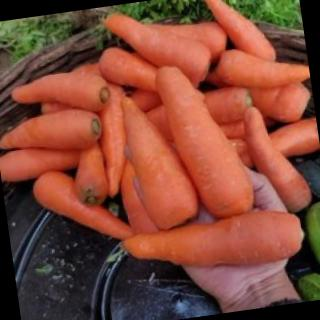Wortel: (151, 53, 260, 225), (121, 206, 309, 282), (118, 87, 207, 235), (100, 1, 219, 98), (29, 157, 140, 258), (242, 97, 316, 219), (1, 102, 108, 165), (9, 64, 116, 125), (212, 37, 312, 100)
